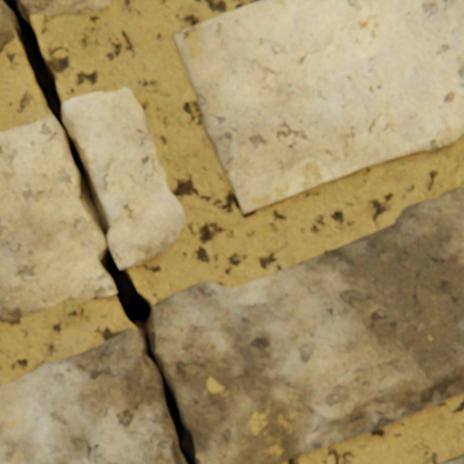brick: (174, 0, 463, 214), (437, 453, 463, 463)
broken_brick: (153, 188, 463, 463), (0, 328, 183, 463), (0, 117, 116, 322), (63, 89, 185, 269), (21, 0, 113, 17), (0, 0, 15, 55)
crack: (1, 0, 197, 463)
